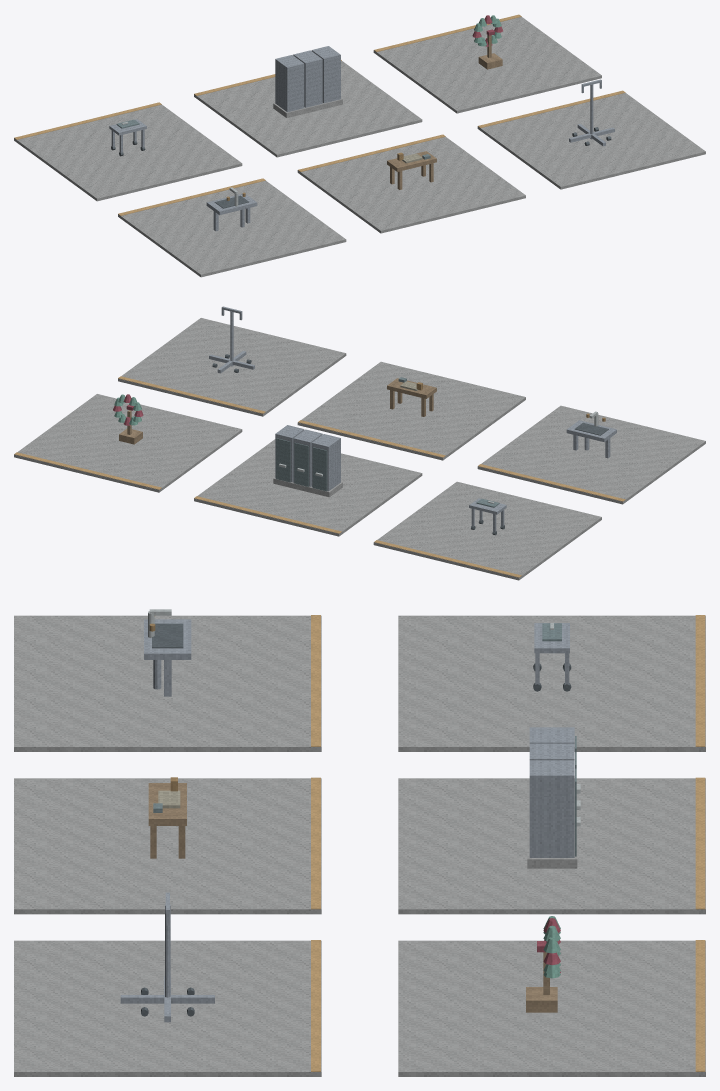
The model's file is level_blockout_kit_wld_07_mortuary_p05.glb.
3 views of the same model, one above another, from view 1: azimuth 30°, elevation 25°; view 2: azimuth 150°, elevation 25°; view 3: azimuth 270°, elevation 25° (orthographic). The views are drawn at different scales.
Visible parts, largest first — view 1: level_blockout_kit_wld_07_mortuary_p05; view 2: level_blockout_kit_wld_07_mortuary_p05; view 3: level_blockout_kit_wld_07_mortuary_p05.
Part boxes in pixels (x1,y1,x2,y2): level_blockout_kit_wld_07_mortuary_p05: (14, 14, 705, 277); level_blockout_kit_wld_07_mortuary_p05: (14, 306, 705, 580); level_blockout_kit_wld_07_mortuary_p05: (14, 609, 705, 1076).
Bounding box in the file's own units: 19.65 × 2.21 × 12.6.
11 materials, 11 textured.
